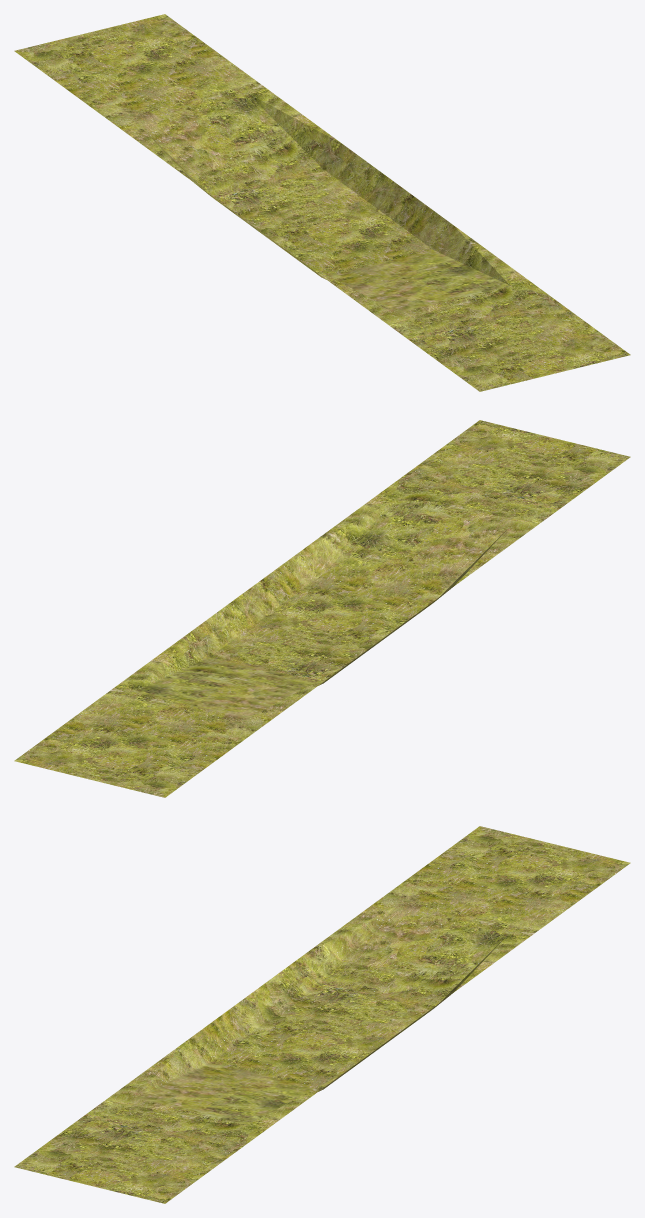
File: SM_LDFest_11_Grass_00.fbx
3 renders of one model, top to bottom at view 1: azimuth 30°, elevation 25°; view 2: azimuth 150°, elevation 25°; view 3: azimuth 330°, elevation 25°, orthographic.
Parts seen in each view (by area): view 1: SM_LDFest_11_Grass_00; view 2: SM_LDFest_11_Grass_00; view 3: SM_LDFest_11_Grass_00.
Part boxes in pixels (x1,y1,x2,y2): SM_LDFest_11_Grass_00: (14,14,630,391); SM_LDFest_11_Grass_00: (14,420,630,797); SM_LDFest_11_Grass_00: (14,826,630,1203).
Size of the model in its own units: 554 by 71.61 by 2958.
